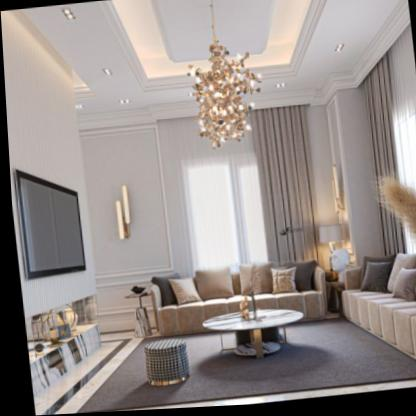Curtains: (153, 108, 322, 282), (358, 26, 416, 265)
Gypsum Board: (35, 0, 392, 133)
Sofa: (134, 255, 329, 342), (333, 254, 416, 364)
